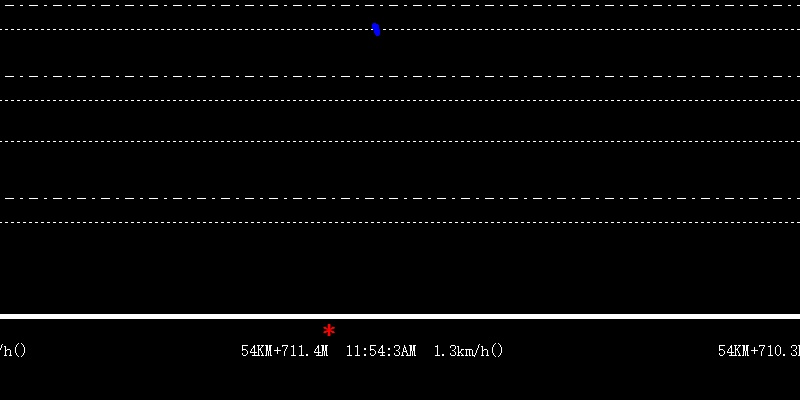face_1: (369, 22, 383, 39)
star: (321, 321, 337, 339)
